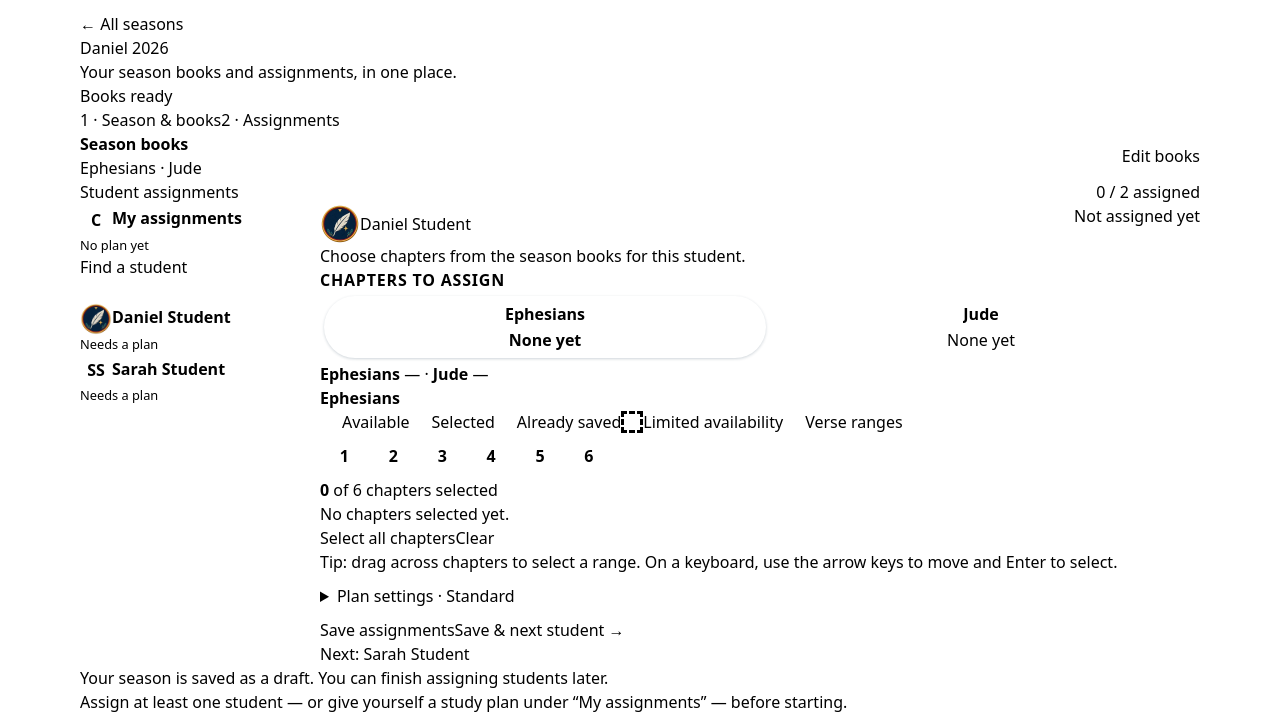
Test case: Two-step season planner › shows one book at a time in tabs and keeps each book's selection while switching
Click the button named "Chapter 1" at (344,456), box [320, 434, 369, 478]
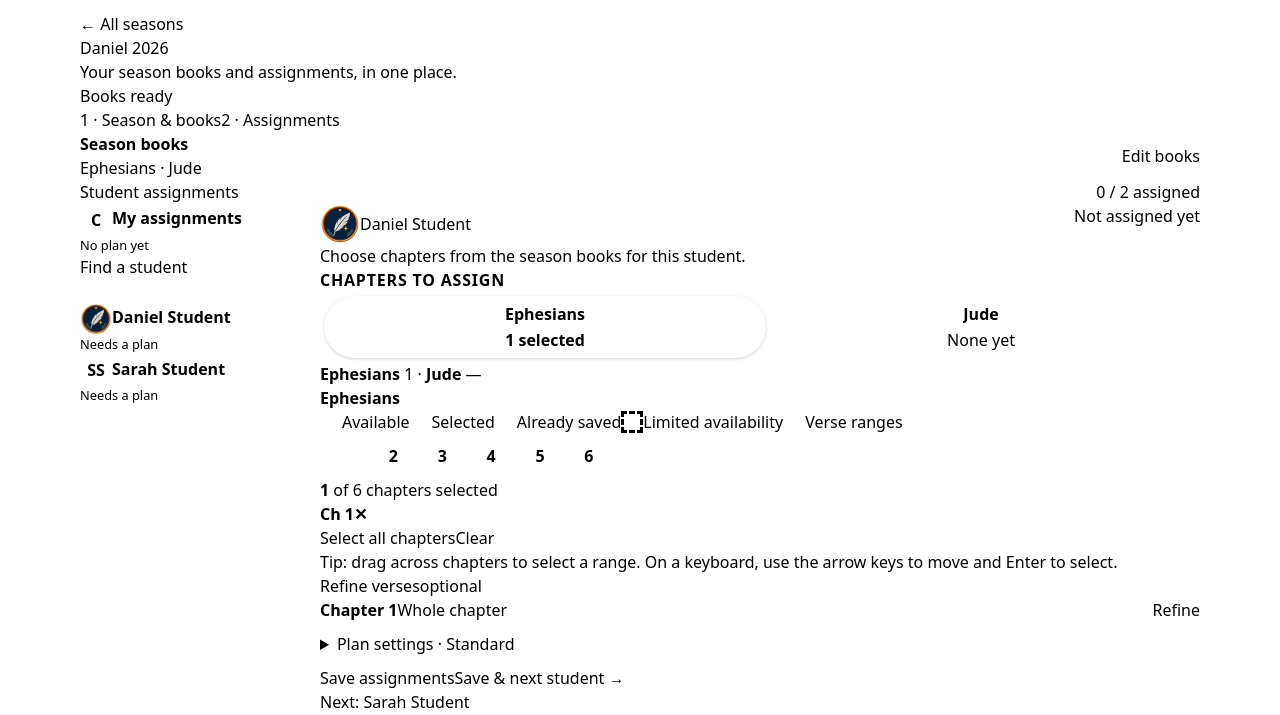
Now the tab "Ephesians 1 selected" is shown, box [324, 296, 766, 358]
Now the element named "Selection summary" shows "Ephesians 1", box [320, 363, 482, 385]
Click the tab "Jude None yet" at (981,327), box [766, 296, 1196, 358]
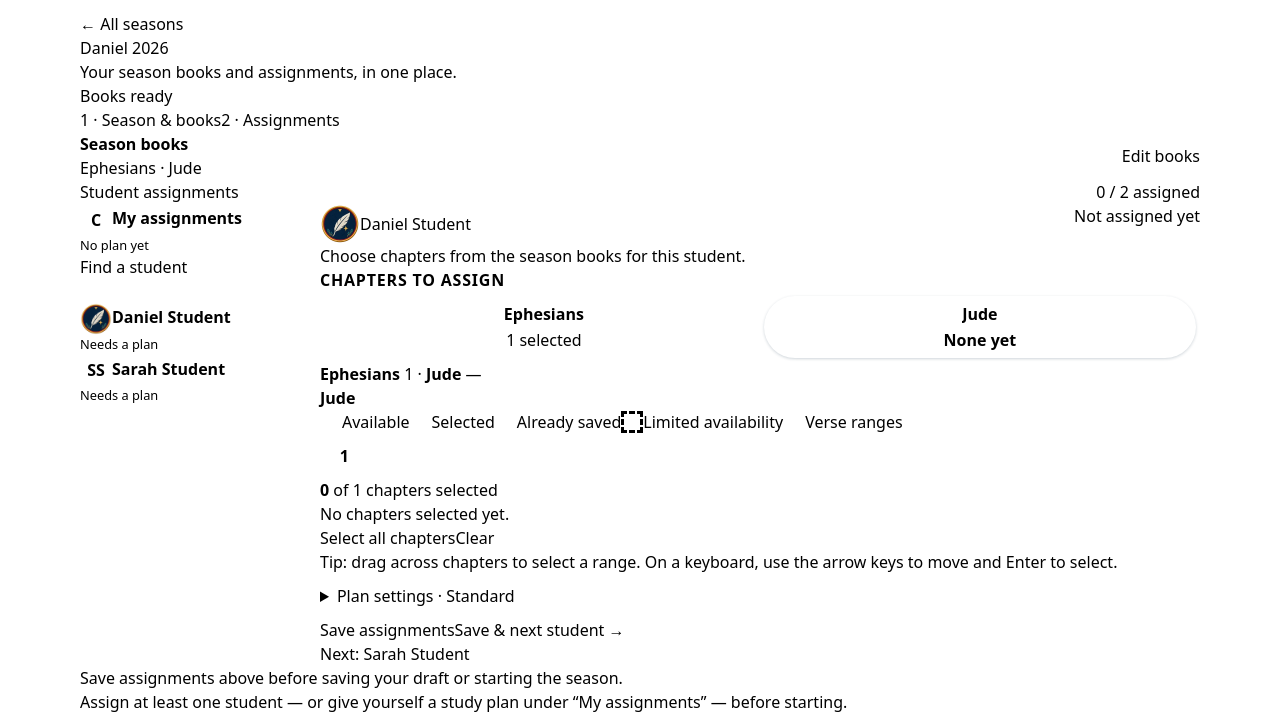
Now the number of buttons "1" is 1, box [320, 434, 369, 478]
Click the tab "Ephesians 1 selected" at (544,327), box [324, 296, 764, 358]
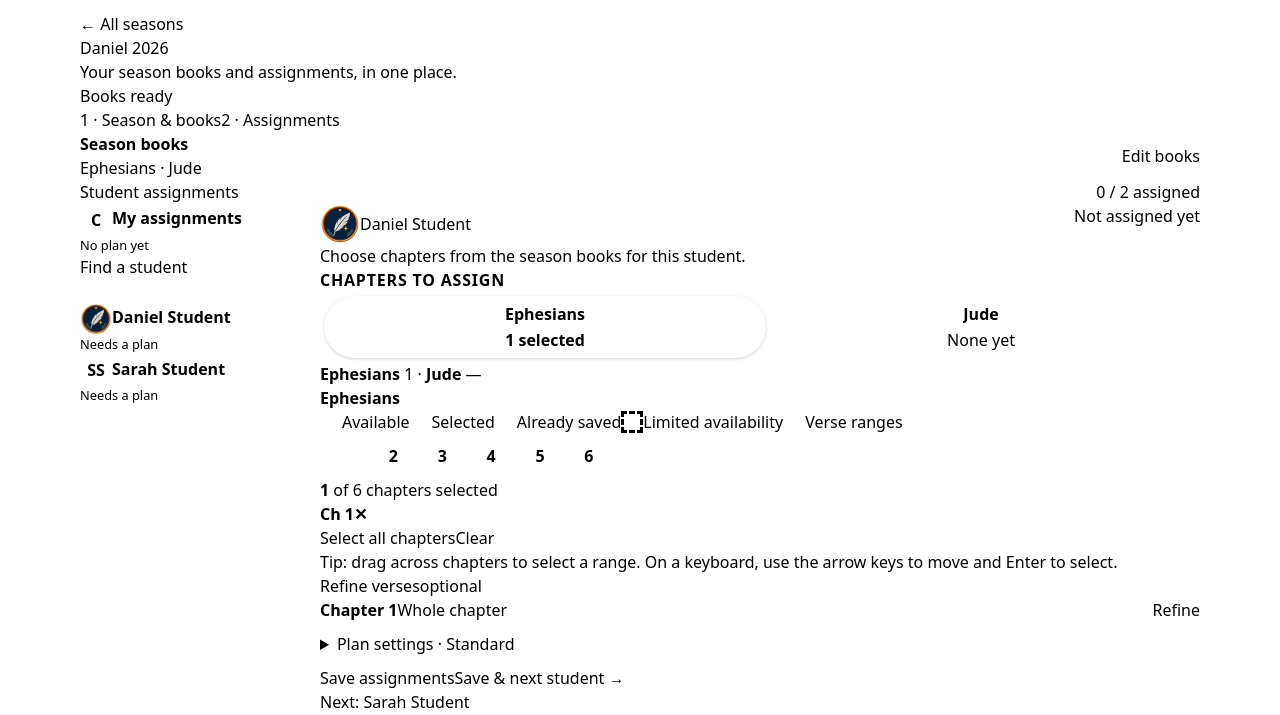
Now the element showing "1 of 6 chapters selected" is shown, box [320, 479, 498, 501]
